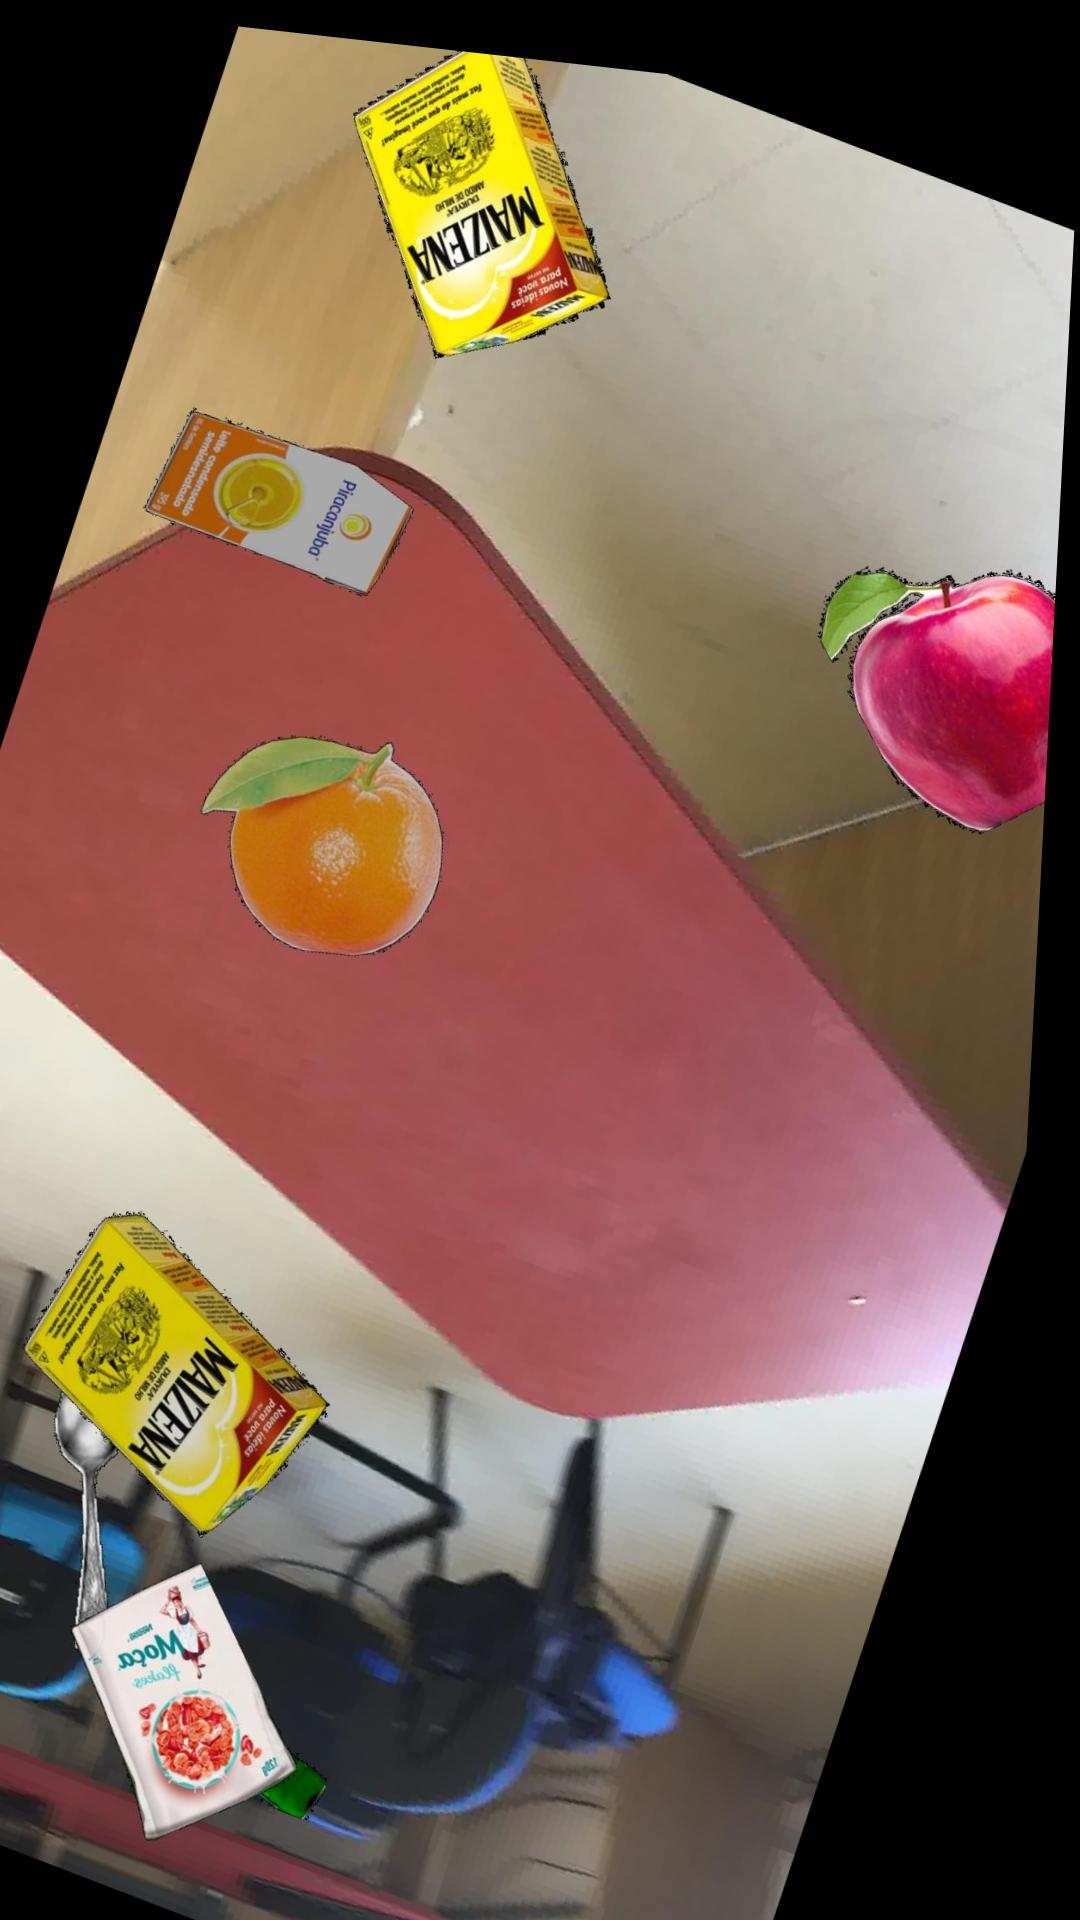apple: (822, 549, 1060, 808)
cleaner: (276, 1746, 344, 1812)
corn flakes: (87, 1557, 315, 1836)
orange: (207, 729, 450, 948)
spoon: (67, 1390, 132, 1647)
